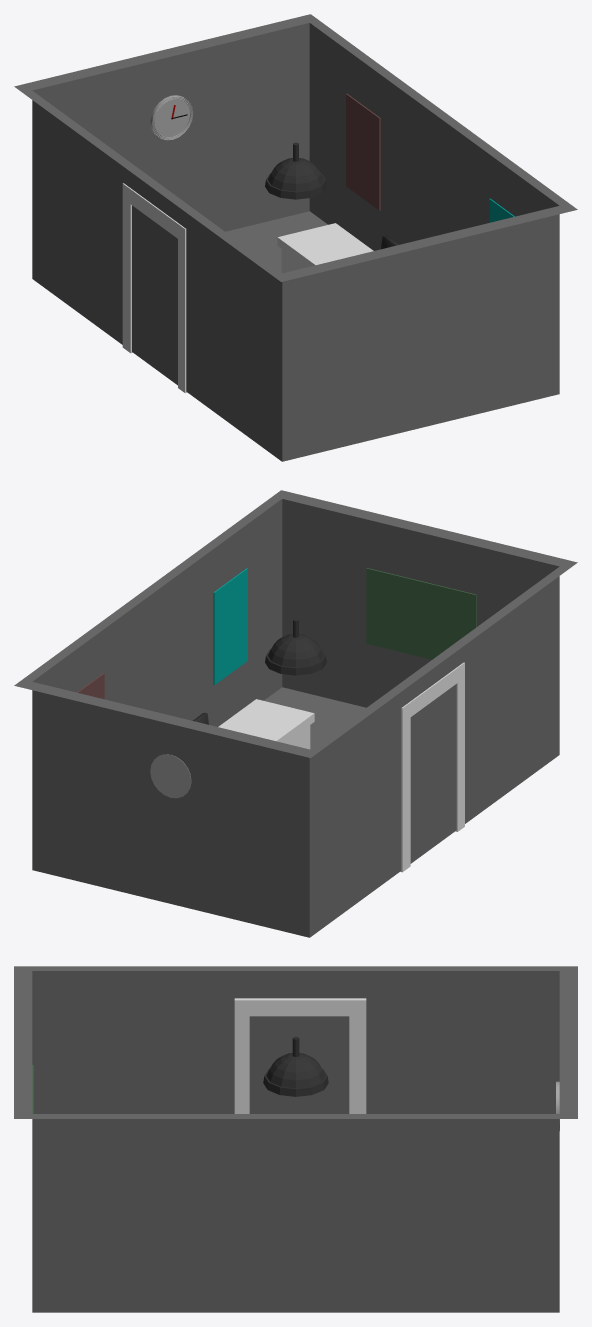
The model's file is SalaInicial.fbx.
3 renders of one model, top to bottom at view 1: azimuth 30°, elevation 25°; view 2: azimuth 150°, elevation 25°; view 3: azimuth 270°, elevation 25°, orthographic. The views are drawn at different scales.
Parts seen in each view (by area): view 1: Sala_inicial, MarcoPuerta, Poster_1, Mesa, Lampara, Reloj; view 2: Sala_inicial, Poster_3, MarcoPuerta, Poster_2, Mesa, Lampara, Reloj; view 3: Sala_inicial, MarcoPuerta, Lampara.
Part boxes in pixels (bbox=[...]): Sala_inicial: bbox=[14, 14, 577, 461]; MarcoPuerta: bbox=[122, 183, 186, 393]; Poster_1: bbox=[346, 93, 380, 210]; Mesa: bbox=[277, 223, 373, 273]; Lampara: bbox=[265, 158, 326, 199]; Reloj: bbox=[150, 95, 193, 140]; Sala_inicial: bbox=[14, 490, 577, 937]; Poster_3: bbox=[366, 568, 476, 659]; MarcoPuerta: bbox=[400, 662, 464, 872]; Poster_2: bbox=[213, 568, 247, 685]; Mesa: bbox=[218, 699, 314, 749]; Lampara: bbox=[265, 634, 326, 675]; Reloj: bbox=[150, 754, 191, 798]; Sala_inicial: bbox=[14, 966, 577, 1312]; MarcoPuerta: bbox=[234, 998, 366, 1113]; Lampara: bbox=[263, 1053, 328, 1096].
Size of the model in its own units: 5.13 by 3.2 by 8.
